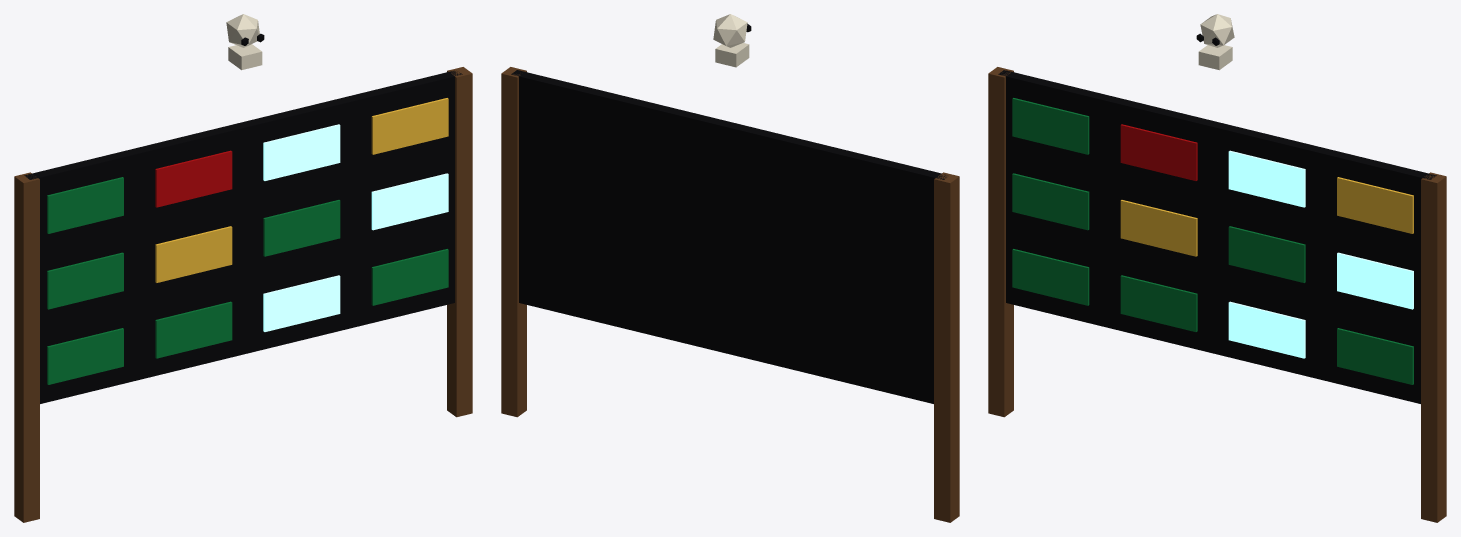
File: Prop_OR_OddsBoard_10.glb
3 renders of one model, left to right at view 1: azimuth 30°, elevation 25°; view 2: azimuth 150°, elevation 25°; view 3: azimuth 330°, elevation 25°, orthographic.
Visible parts, largest first — view 1: Prop_OR_OddsBoard_10; view 2: Prop_OR_OddsBoard_10; view 3: Prop_OR_OddsBoard_10.
Boxes of the visible parts, x1,y1,x2,y2 form: Prop_OR_OddsBoard_10: (14, 14, 472, 522); Prop_OR_OddsBoard_10: (501, 14, 959, 522); Prop_OR_OddsBoard_10: (988, 14, 1446, 522).
Bounding box in the file's own units: 4.15 × 3.98 × 0.3057.
